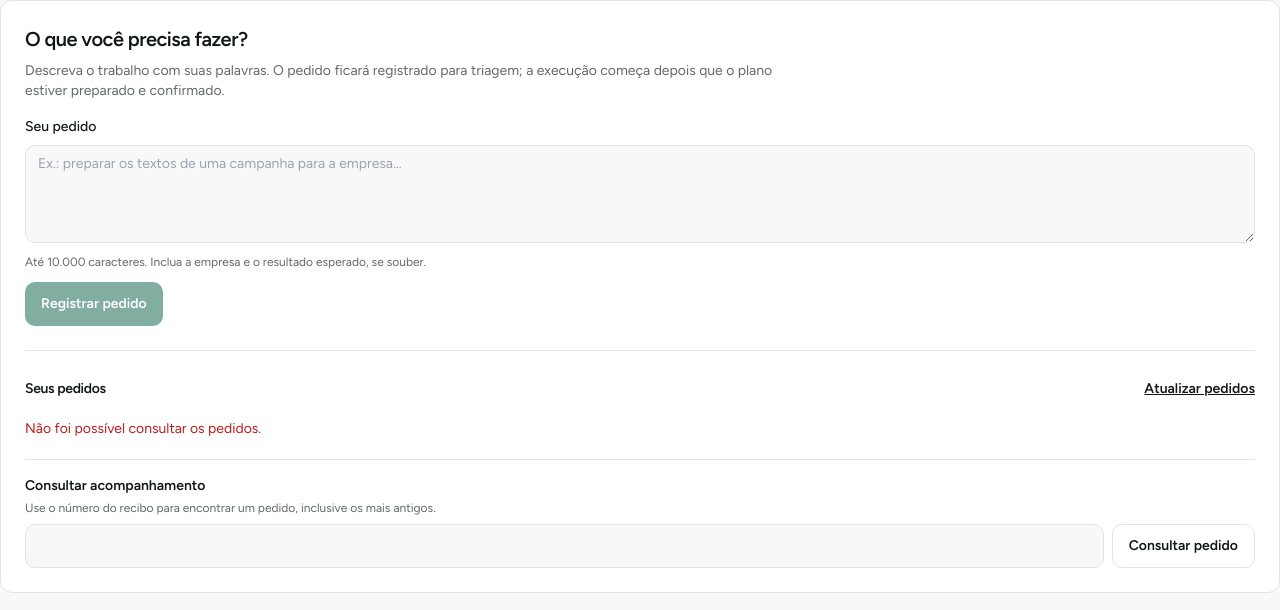
Scenario: recusa texto vazio e mostra falha de listagem sem fingir fila vazia
Expected: the text "Não foi possível consultar os pedidos." is shown, 25,420 -> 261,437
Expected: the text "Nenhum pedido registrado." is not shown
Click the button "Atualizar pedidos": coordinates (1200, 389) 1144,367 -> 1255,411
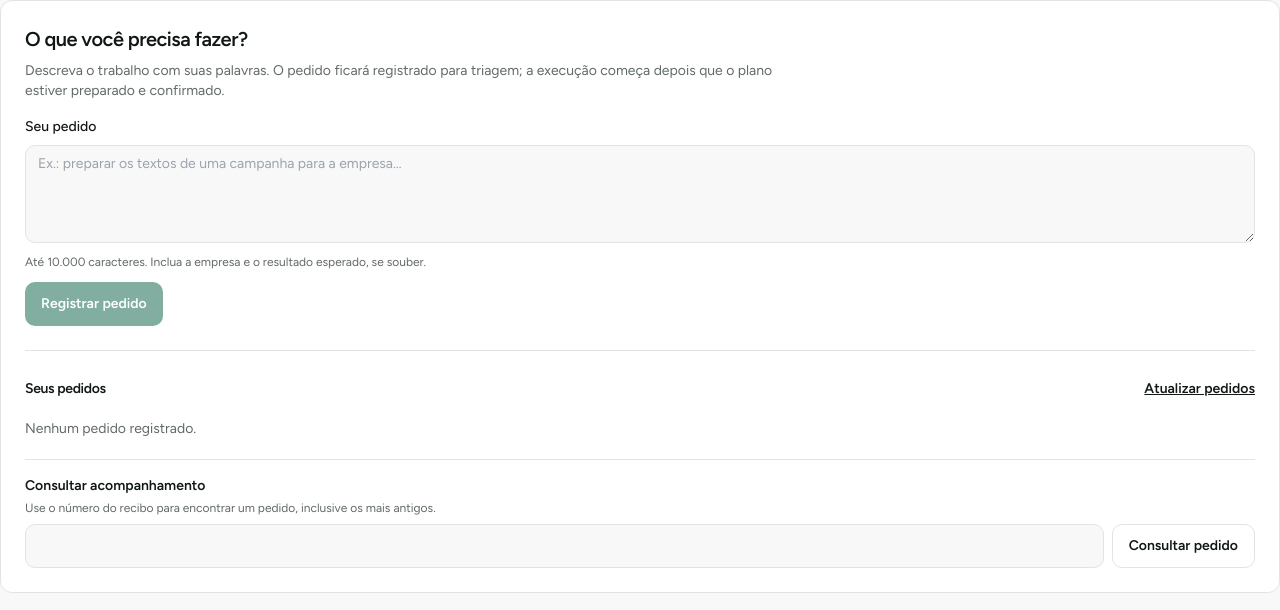
Expected: the button "Registrar pedido" is disabled, 25,282 -> 163,326
Result: the text "Nenhum pedido registrado." is shown at 25,420 -> 196,437
